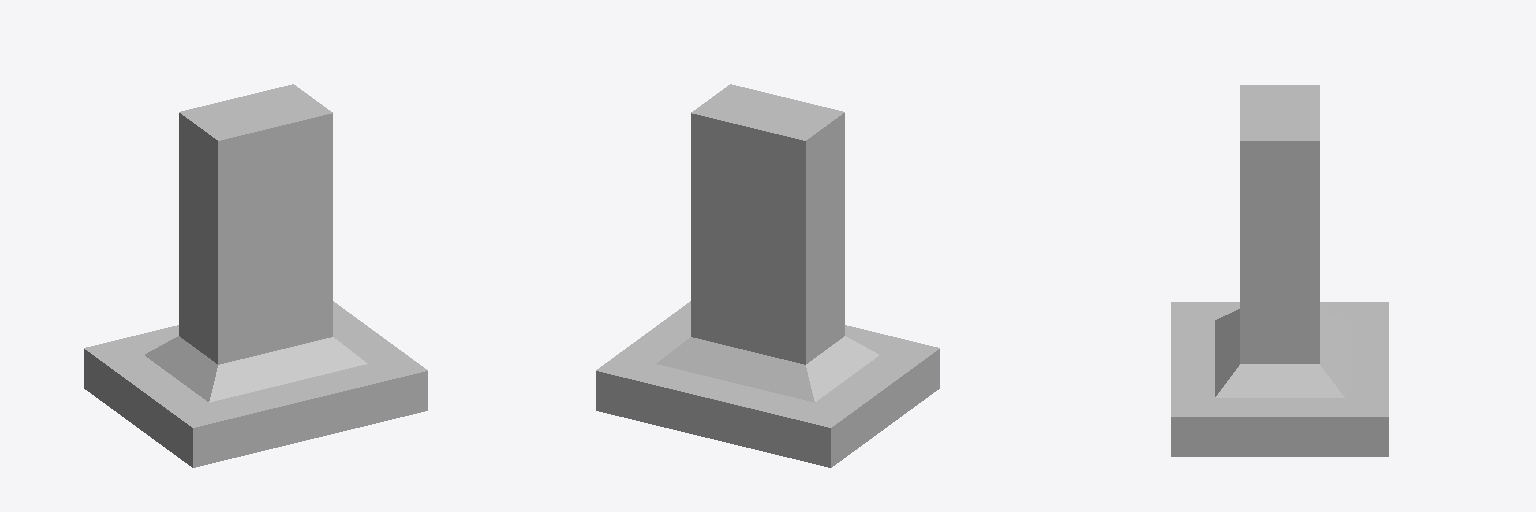
The model's file is Gravestone2.obj.
3 views of the same model, side by side, from view 1: azimuth 30°, elevation 25°; view 2: azimuth 150°, elevation 25°; view 3: azimuth 270°, elevation 25° (orthographic).
Parts seen in each view (by area): view 1: Cube_Cube.001; view 2: Cube_Cube.001; view 3: Cube_Cube.001.
Boxes of the visible parts, <box> form: Cube_Cube.001: <box>84,84,427,467</box>; Cube_Cube.001: <box>596,84,939,467</box>; Cube_Cube.001: <box>1171,85,1388,456</box>.
Size of the model in its own units: 7.4 by 8.61 by 5.94.